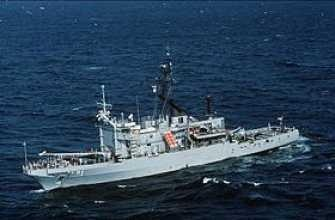warship: (20, 45, 300, 189)
